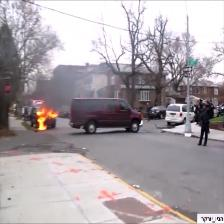fire: (33, 101, 64, 137)
